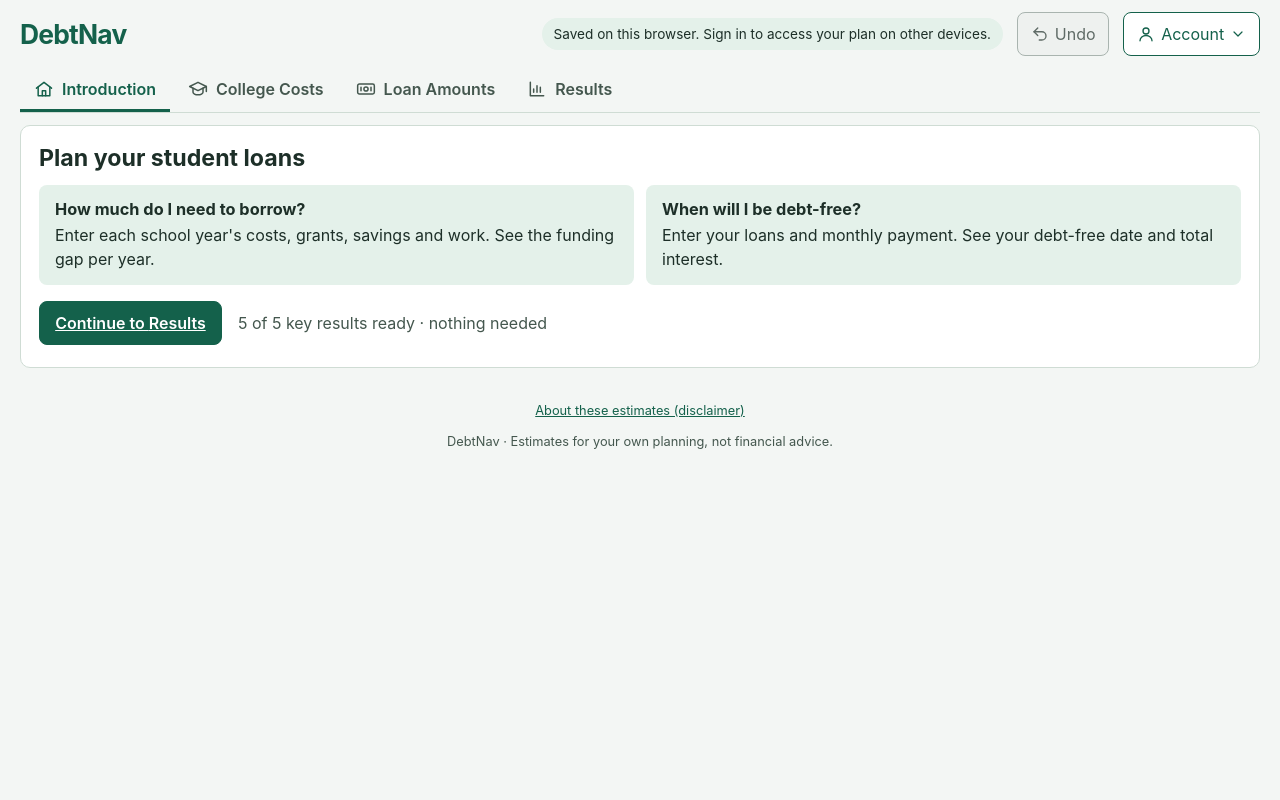
it: in the planner › is visible and disabled with clear text when nothing can be undone
expect the button "Undo" is disabled: met, box x1=1017 y1=12 x2=1109 y2=56
Click the button "Account".
click(1192, 34)  # box x1=1123 y1=12 x2=1260 y2=56
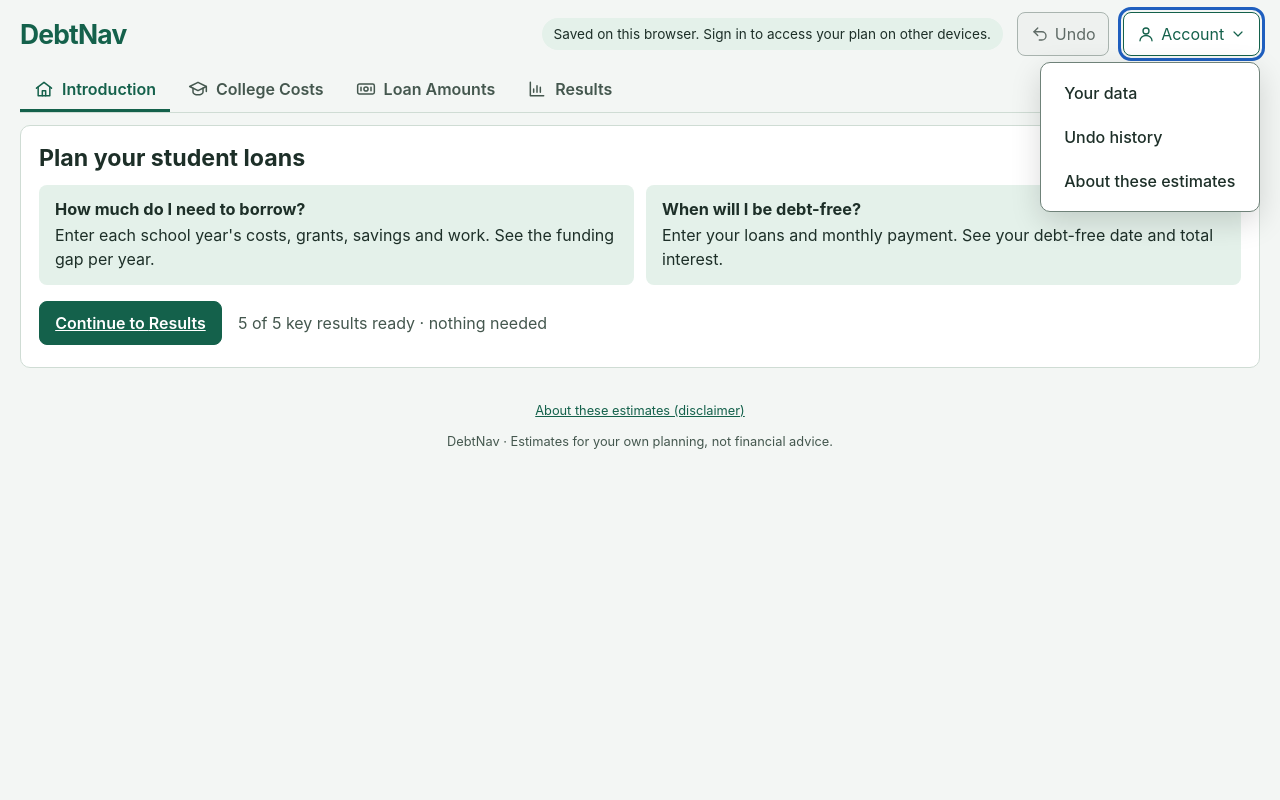
Click the button "Undo history".
click(1150, 137)  # box x1=1049 y1=115 x2=1251 y2=159
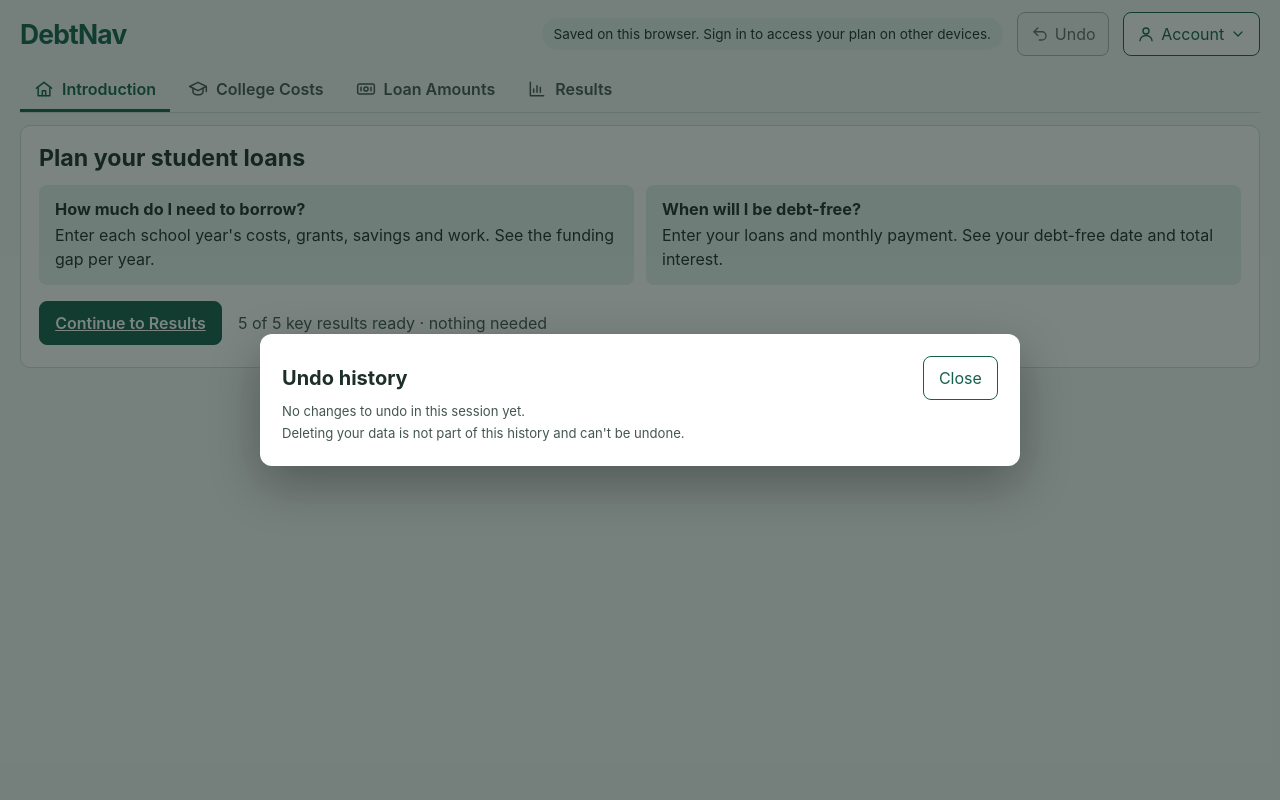
expect the dialog "Undo history" shows "No changes to undo in this session yet.": met, box x1=282 y1=403 x2=525 y2=419
